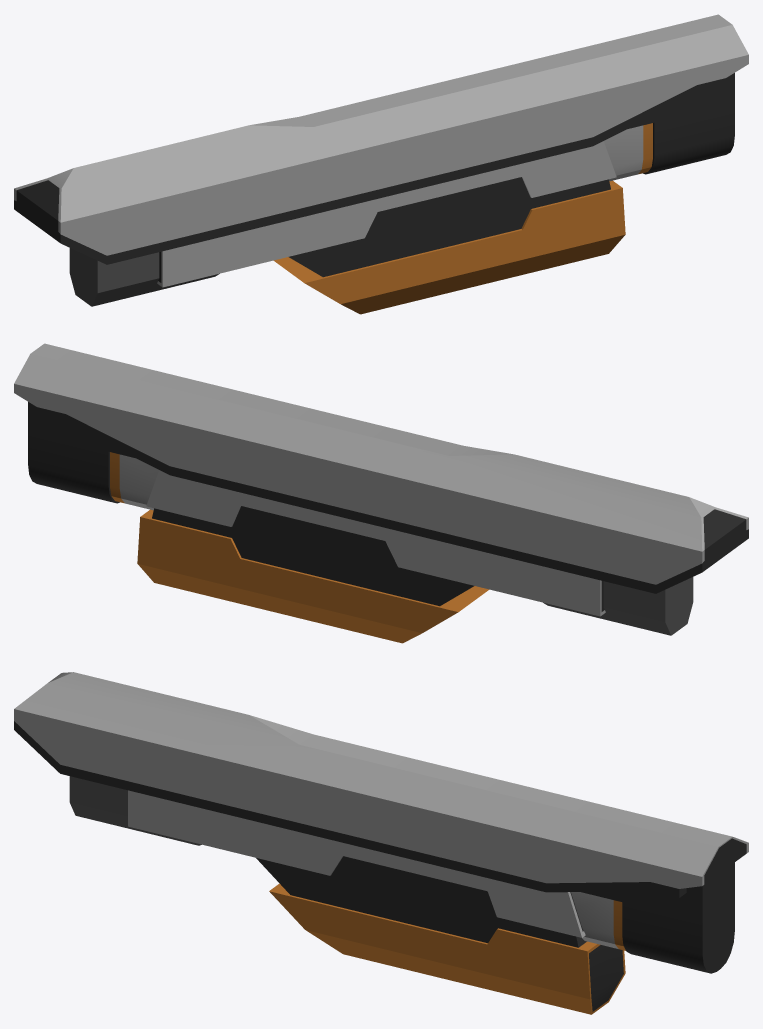
The model's file is quaternius-modular-sci-fi-guns-body-sniper-2.glb.
The picture shows the model from 3 angles, top to bottom: view 1: azimuth 30°, elevation 25°; view 2: azimuth 150°, elevation 25°; view 3: azimuth 330°, elevation 25°; orthographic projection.
Visible parts, largest first — view 1: Body_Sniper_2; view 2: Body_Sniper_2; view 3: Body_Sniper_2.
Part boxes in pixels (x1=…): Body_Sniper_2: x1=14, y1=14, x2=748, y2=314; Body_Sniper_2: x1=14, y1=343, x2=748, y2=643; Body_Sniper_2: x1=14, y1=672, x2=748, y2=1014.
Bounding box in the file's own units: 1.52 × 0.4377 × 0.1784.
